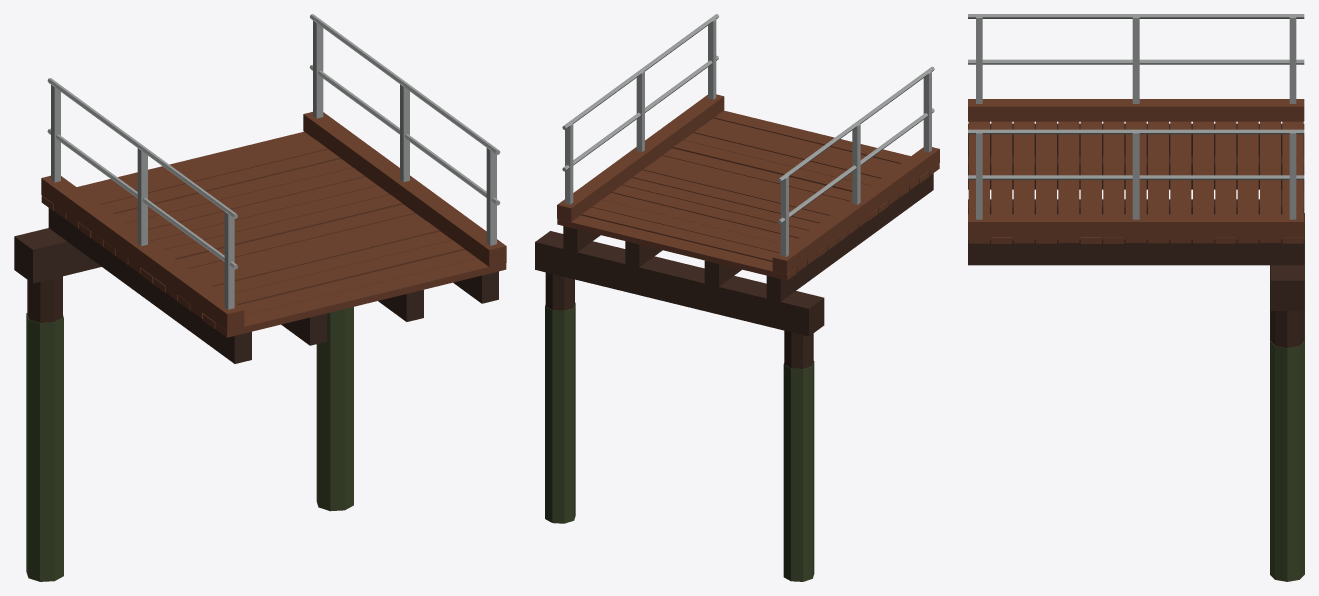
Rendered from jetty_bay.glb.
The picture shows the model from 3 angles, left to right: view 1: azimuth 30°, elevation 25°; view 2: azimuth 150°, elevation 25°; view 3: azimuth 270°, elevation 25°; orthographic projection. The views are drawn at different scales.
Parts seen in each view (by area): view 1: JettyBay; view 2: JettyBay; view 3: JettyBay.
Boxes of the visible parts, x1,y1,x2,y2 form: JettyBay: [14, 14, 506, 581]; JettyBay: [535, 14, 939, 581]; JettyBay: [968, 14, 1304, 581].
Size of the model in its own units: 3.1 by 4.32 by 3.01.
